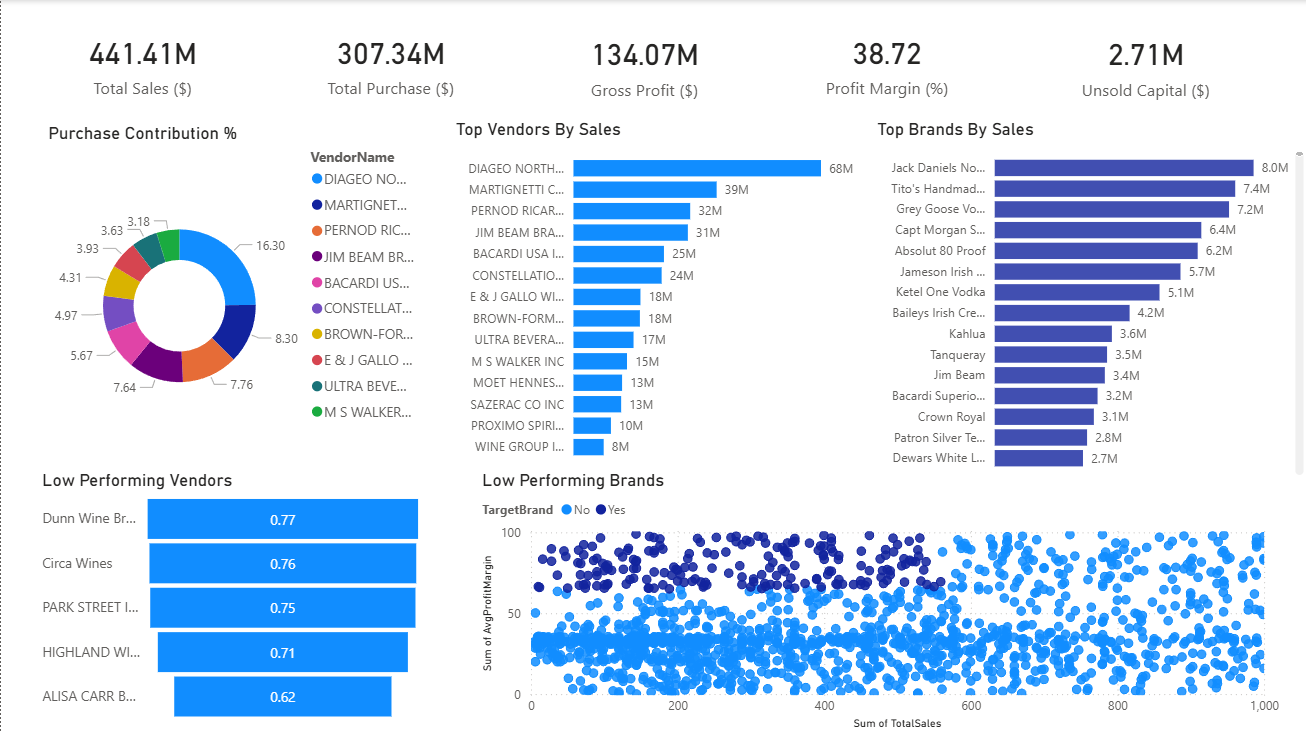

Layout of this report page (visuals, bound fields, positions):
{"tool":"powerbi","page":{"name":"Page 1","canvas":[1280,720],"ordinal":0},"visuals":[{"type":"card","fields":{"Values":["Sum(vendor_data vendor_sales_summary.TotalSalesDollars)"]},"box":[41.6,7.3,194.4,108.8],"z":0},{"type":"card","fields":{"Values":["Sum(vendor_sales_summary.TotalPurchaseDollars)"]},"box":[283.7,7.3,195.7,108.8],"z":2000},{"type":"card","fields":{"Values":["Sum(vendor_data vendor_sales_summary.GrossProfit)"]},"box":[531.9,8.6,195.7,108.8],"z":3000},{"type":"card","fields":{"Values":["Avg(vendor_data vendor_sales_summary.ProfitMargin)"]},"box":[769.2,7.3,195.7,108.8],"z":4000},{"type":"card","fields":{"Values":["Sum(vendor_sales_summary.UnsoldCapital)"]},"box":[1022.3,8.6,195.7,108.8],"z":5000},{"type":"donutChart","title":"Purchase Contribution %","fields":{"Category":["PurchaseContribution.VendorName"],"Y":["Sum(PurchaseContribution.PurchaseContribution)"]},"box":[41.6,119.3,377.2,339.8],"z":6000},{"type":"barChart","title":"Top Vendors By Sales","fields":{"Category":["vendor_sales_summary.VendorName"],"Y":["Sum(vendor_sales_summary.TotalSalesDollars)"]},"box":[440.2,116.2,426.8,343.6],"z":7000},{"type":"barChart","title":"Top Brands By Sales","fields":{"Category":["vendor_sales_summary.Description"],"Y":["Sum(vendor_sales_summary.TotalSalesDollars)"]},"box":[852.9,116.5,427.1,353.6],"z":8000},{"type":"funnel","title":"Low Performing Vendors","fields":{"Category":["LowTurnoverVendor.VendorName"],"Y":["Avg(LowTurnoverVendor.AvgStockTurnover)"]},"box":[35.5,459.8,382.7,250.7],"z":9000},{"type":"scatterChart","title":"Low Performing Brands","fields":{"Category":["BrandPerformance.Description"],"X":["Sum(BrandPerformance.TotalSales)"],"Y":["Sum(BrandPerformance.AvgProfitMargin)"],"Series":["BrandPerformance.TargetBrand"]},"box":[465.9,459.8,789.9,259.2],"z":10000}]}

Visuals, with their boxes in screenshot pixels (x1, y1, x2, y2), scaled from the page's 1280x720 canvas onto the 1306x733 screenshot:
card - Sum(vendor_data vendor_sales_summary.TotalSalesDollars): Rect(42, 7, 241, 118)
card - Sum(vendor_sales_summary.TotalPurchaseDollars): Rect(289, 7, 489, 118)
card - Sum(vendor_data vendor_sales_summary.GrossProfit): Rect(543, 9, 742, 120)
card - Avg(vendor_data vendor_sales_summary.ProfitMargin): Rect(785, 7, 984, 118)
card - Sum(vendor_sales_summary.UnsoldCapital): Rect(1043, 9, 1243, 120)
"Purchase Contribution %" donutChart: Rect(42, 121, 427, 467)
"Top Vendors By Sales" barChart: Rect(449, 118, 885, 468)
"Top Brands By Sales" barChart: Rect(870, 119, 1305, 479)
"Low Performing Vendors" funnel: Rect(36, 468, 427, 723)
"Low Performing Brands" scatterChart: Rect(475, 468, 1281, 732)
